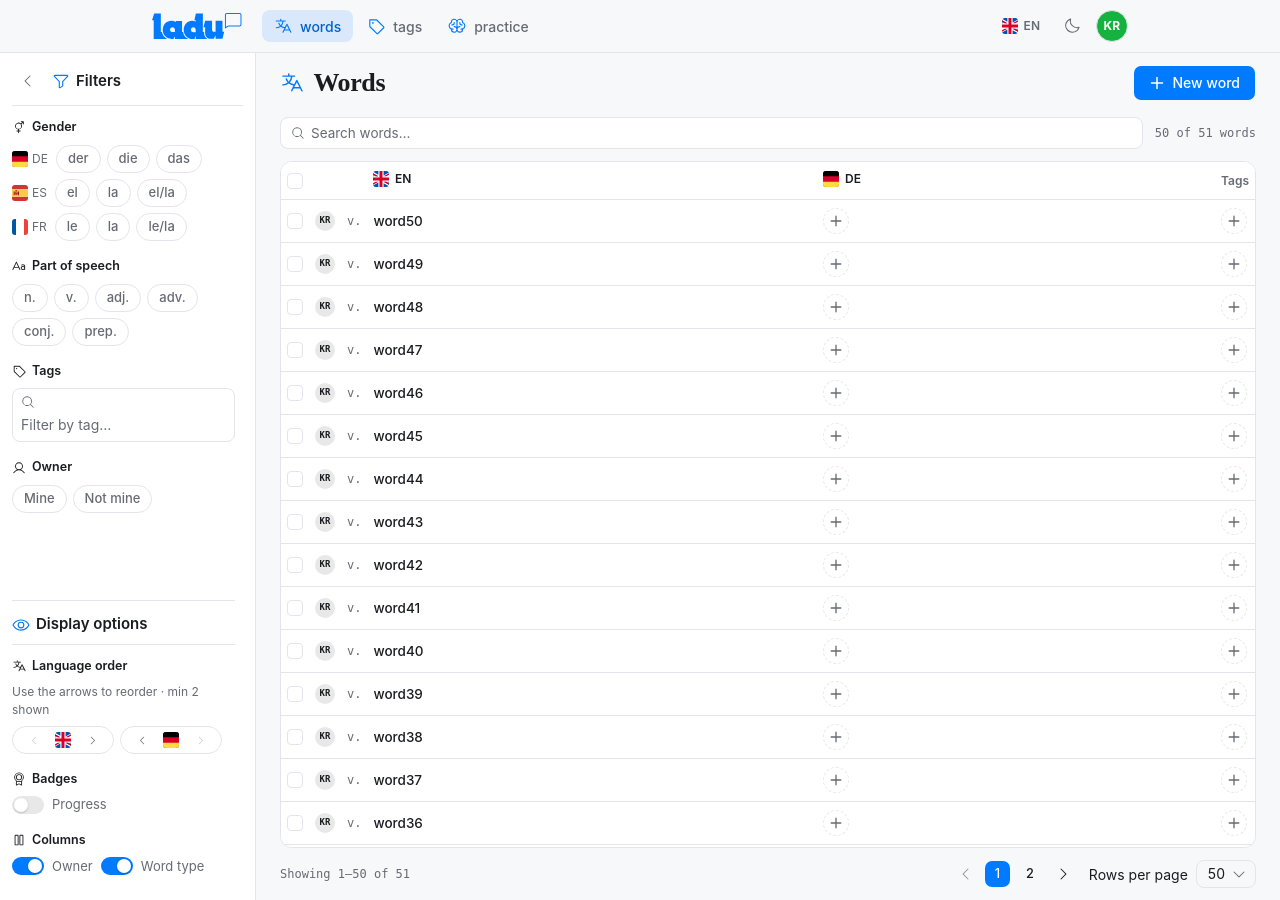
Test: ReviewPage › Next page shows the second page and writes page=2 in the URL
Check: the text with test id "pagination-range" reads "Showing 1–50 of 51", box [280,867,410,881]
Click the button named "Next page". click: (1063, 874)
box: [1049,860,1077,888]
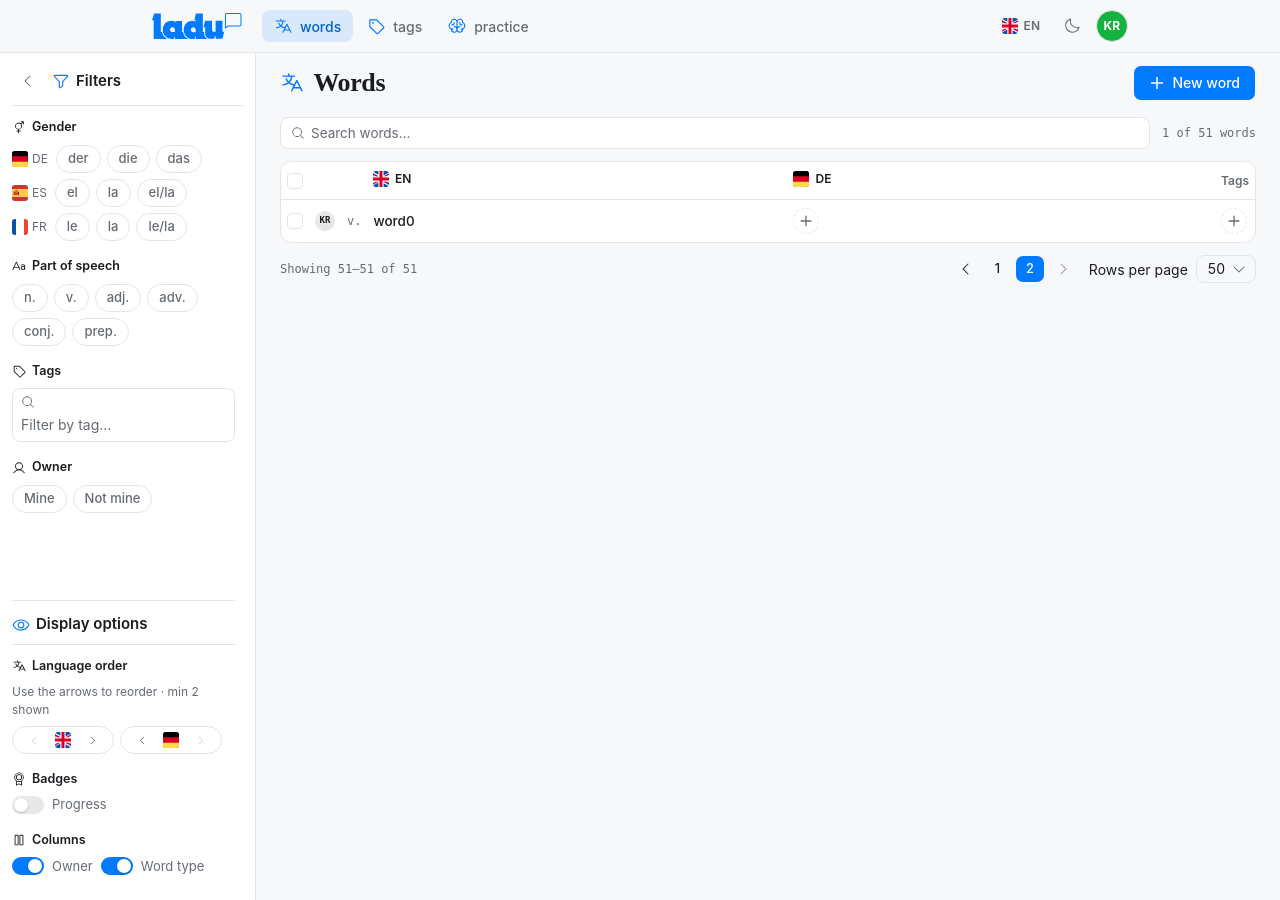
Check: the number of rows is 2, box [281,162,1255,200]; [281,200,1255,242]
Check: the button "word0" is shown, box [370,209,419,233]
Check: the text with test id "pagination-range" reads "Showing 51–51 of 51", box [280,262,417,276]
